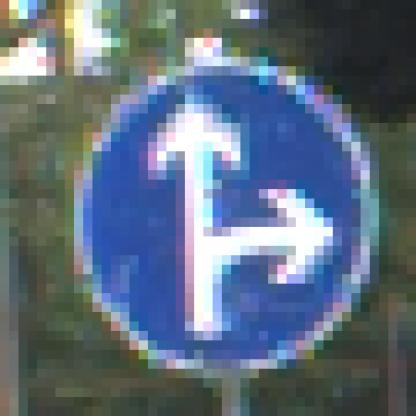Straight or Right: (56, 48, 371, 370)
